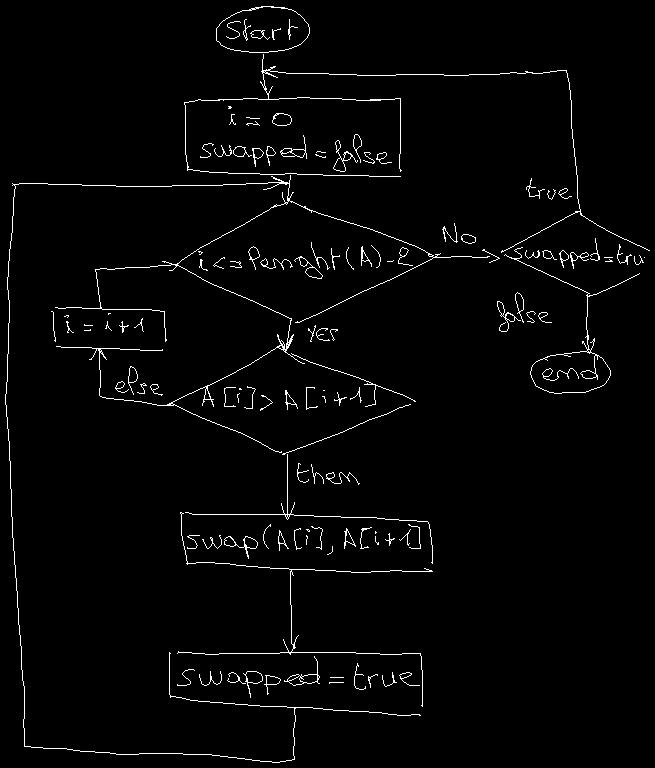arrow: (5, 176, 295, 762), (261, 66, 581, 213), (89, 348, 173, 405), (95, 261, 177, 307), (283, 570, 298, 654), (428, 249, 499, 262), (281, 454, 294, 519), (582, 294, 594, 353), (277, 318, 293, 352), (260, 54, 272, 98), (282, 175, 293, 204)
decision: (176, 200, 440, 322), (166, 345, 415, 454), (501, 211, 649, 296)
process: (184, 97, 401, 176), (169, 651, 422, 715), (180, 512, 432, 572), (51, 307, 166, 350)
terminator: (216, 6, 309, 52), (530, 351, 610, 393)
text: (200, 106, 391, 171), (177, 656, 419, 697), (187, 524, 420, 558), (198, 242, 412, 278), (202, 383, 375, 410), (511, 238, 644, 268), (497, 292, 551, 331), (64, 313, 143, 332), (226, 19, 297, 40), (542, 354, 597, 380), (115, 366, 162, 395), (297, 463, 359, 484), (526, 178, 571, 199), (442, 223, 475, 243), (308, 325, 337, 341)
